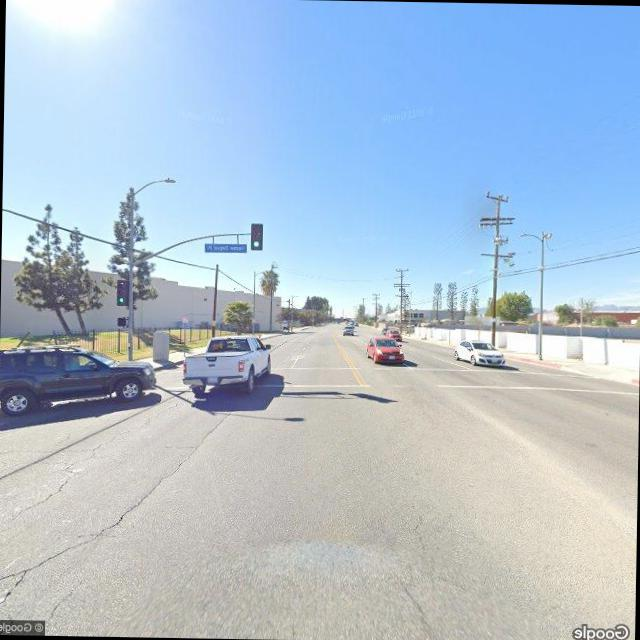pothole: (4, 425, 209, 601), (10, 384, 186, 522)
